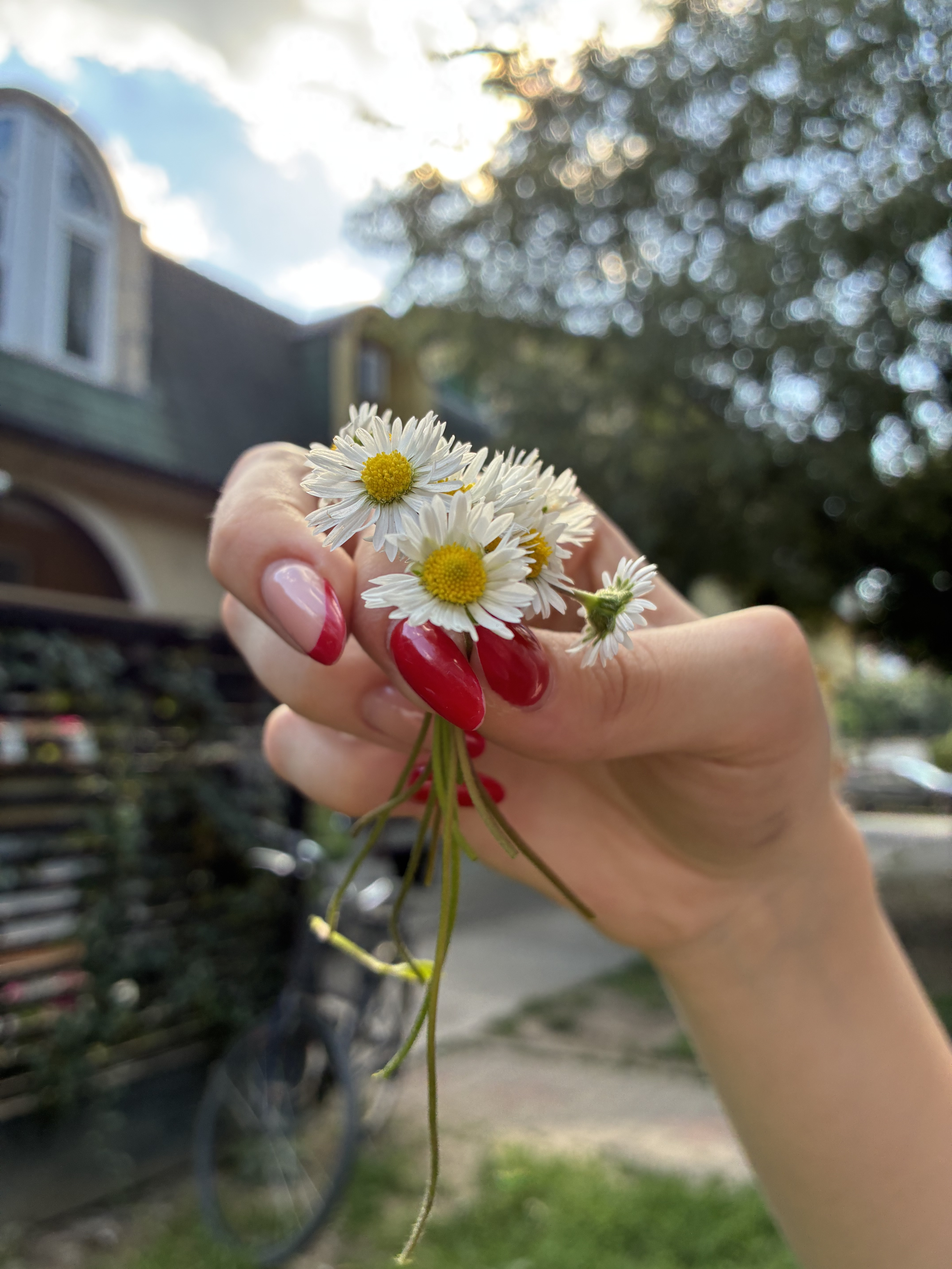daisy: (365, 486, 533, 645), (302, 416, 474, 543), (561, 550, 665, 678), (474, 470, 605, 558), (485, 501, 568, 622), (305, 399, 399, 470)
